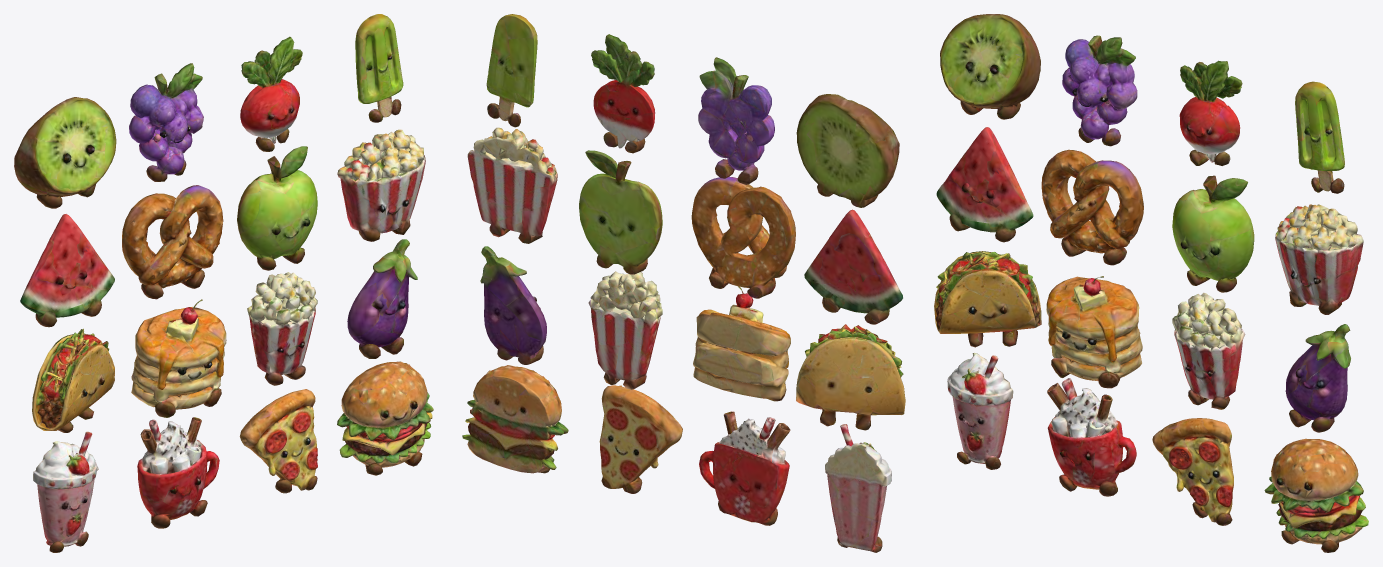
The picture shows the model from 3 angles, left to right: view 1: azimuth 30°, elevation 25°; view 2: azimuth 150°, elevation 25°; view 3: azimuth 330°, elevation 25°; orthographic projection. The views are drawn at different scales.
Visible parts, largest first — view 1: Mesh 7, Mesh 15, Mesh 5, Mesh 6, Mesh 16, Mesh 11, Mesh 8, Mesh 1, Mesh 3, Mesh 13, Mesh 9, Mesh 10 (+4 smaller); view 2: Mesh 6, Mesh 5, Mesh 15, Mesh 3, Mesh 7, Mesh 16, Mesh 11, Mesh 8, Mesh 13, Mesh 1, Mesh 9, Mesh 10 (+4 smaller); view 3: Mesh 7, Mesh 15, Mesh 6, Mesh 5, Mesh 3, Mesh 16, Mesh 11, Mesh 8, Mesh 1, Mesh 13, Mesh 9, Mesh 10 (+4 smaller).
Boxes of the visible parts, left/top/right/bottom form: Mesh 7: left=131, top=299, right=226, bottom=417; Mesh 15: left=337, top=361, right=433, bottom=475; Mesh 5: left=14, top=97, right=116, bottom=208; Mesh 6: left=122, top=185, right=223, bottom=299; Mesh 16: left=337, top=129, right=425, bottom=241; Mesh 11: left=237, top=146, right=317, bottom=270; Mesh 8: left=137, top=417, right=219, bottom=528; Mesh 1: left=20, top=214, right=114, bottom=327; Mesh 3: left=32, top=328, right=114, bottom=432; Mesh 13: left=247, top=272, right=317, bottom=385; Mesh 9: left=129, top=63, right=203, bottom=181; Mesh 10: left=239, top=389, right=317, bottom=493; Mesh 6: left=691, top=176, right=795, bottom=298; Mesh 5: left=796, top=94, right=899, bottom=207; Mesh 15: left=462, top=365, right=568, bottom=473; Mesh 3: left=796, top=324, right=905, bottom=430; Mesh 7: left=693, top=286, right=790, bottom=401; Mesh 16: left=467, top=127, right=557, bottom=243; Mesh 11: left=579, top=150, right=662, bottom=274; Mesh 8: left=699, top=411, right=790, bottom=525; Mesh 13: left=588, top=271, right=662, bottom=389; Mesh 1: left=804, top=209, right=902, bottom=324; Mesh 9: left=698, top=57, right=774, bottom=184; Mesh 10: left=599, top=385, right=682, bottom=493; Mesh 7: left=1046, top=276, right=1142, bottom=388; Mesh 15: left=1264, top=438, right=1368, bottom=552; Mesh 6: left=1041, top=149, right=1143, bottom=265; Mesh 5: left=940, top=14, right=1040, bottom=119; Mesh 3: left=934, top=251, right=1041, bottom=347; Mesh 16: left=1275, top=204, right=1363, bottom=314; Mesh 11: left=1172, top=175, right=1254, bottom=292; Mesh 8: left=1047, top=378, right=1136, bottom=496; Mesh 1: left=936, top=127, right=1033, bottom=242; Mesh 13: left=1172, top=292, right=1245, bottom=409; Mesh 9: left=1062, top=35, right=1137, bottom=146; Mesh 10: left=1152, top=418, right=1233, bottom=525.
Bounding box in the file's own units: 1.85 × 1.9 × 0.239.
16 materials, 16 textured.
